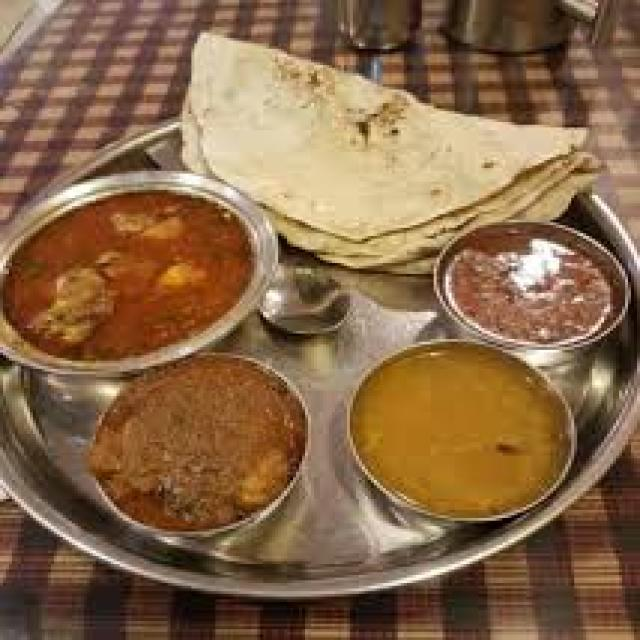RICE BHAKRI: (182, 33, 583, 268)
